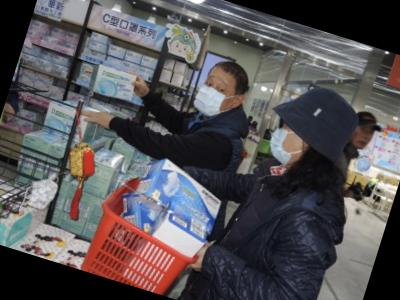with_mask: (190, 71, 240, 124), (264, 117, 306, 169)
without_mask: (349, 122, 376, 153)
